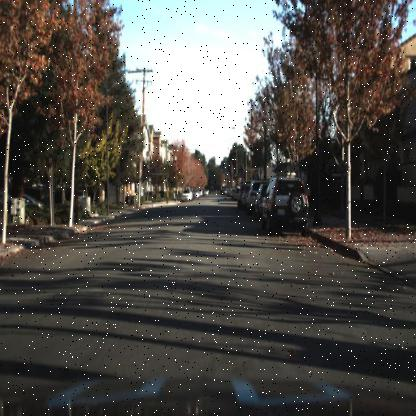car: (258, 173, 309, 234), (179, 185, 194, 204)
